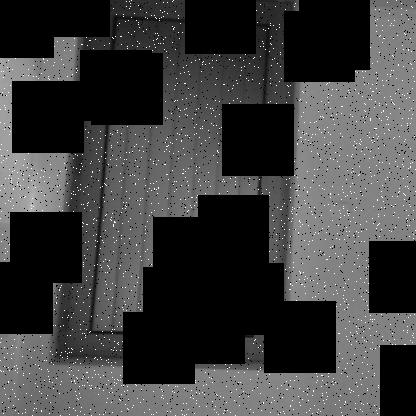Porte: (46, 0, 303, 372)
